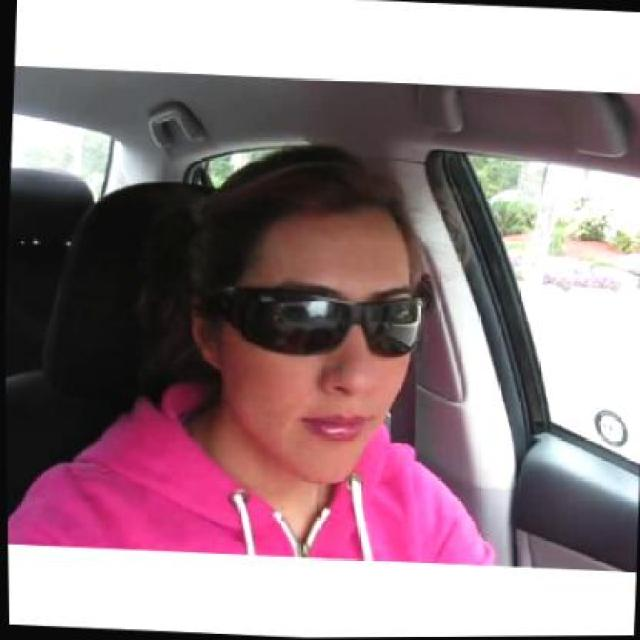attentif: (176, 134, 432, 489)
